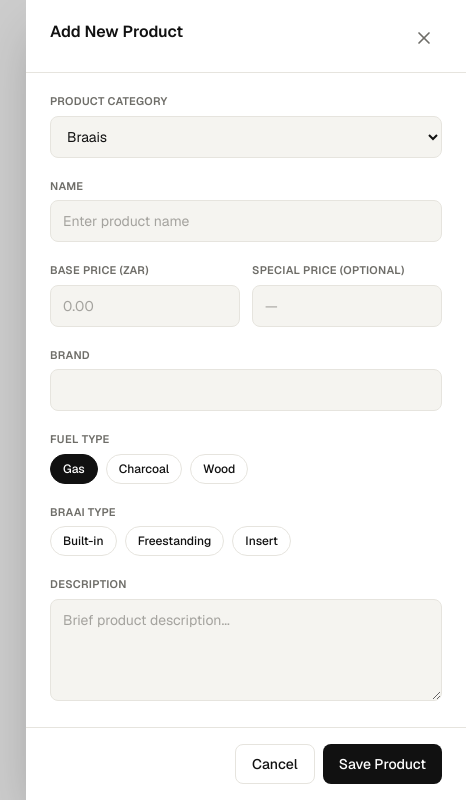
Test: create mode › saving a braai › toasts, refreshes the list and closes
Type "  Mega Braai " into the field labelled "Name" at (246, 221), box left=50, top=200, right=442, bottom=242
Type "9999.5" into the number field labelled "Base Price (ZAR)" at (145, 306), box left=50, top=284, right=240, bottom=326
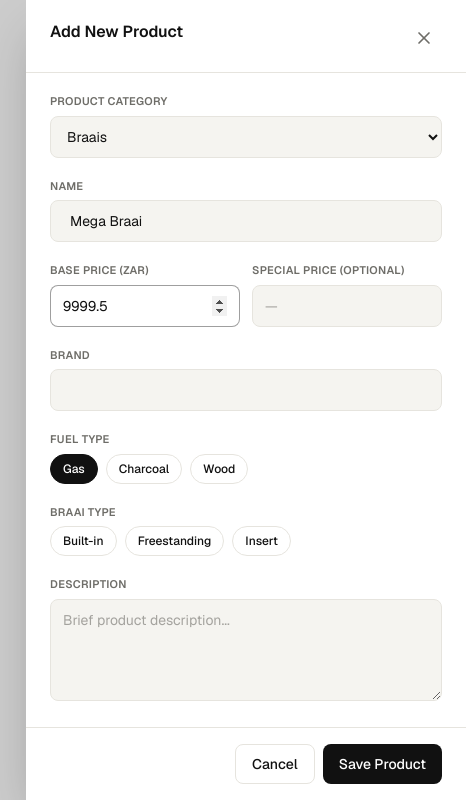
Type "8500" into the number field labelled "Special Price (optional)" at (347, 306), box left=252, top=284, right=442, bottom=326
Type " Weber " into the field labelled "Brand" at (246, 390), box left=50, top=369, right=442, bottom=411
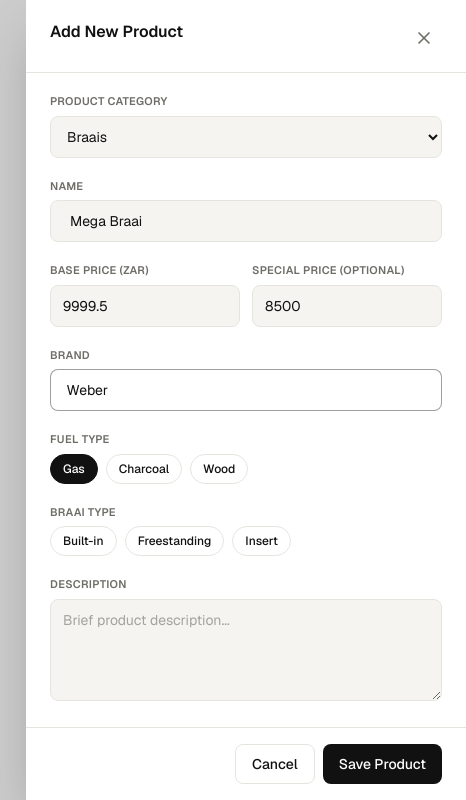
Type "Great braai" into the text box labelled "Description" at (246, 650), box left=50, top=598, right=442, bottom=700
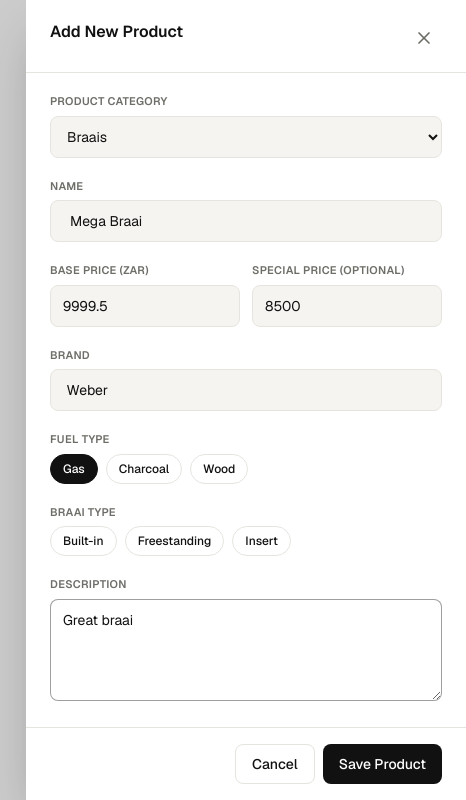
Click the button "Charcoal" at (144, 468), box left=106, top=454, right=182, bottom=484
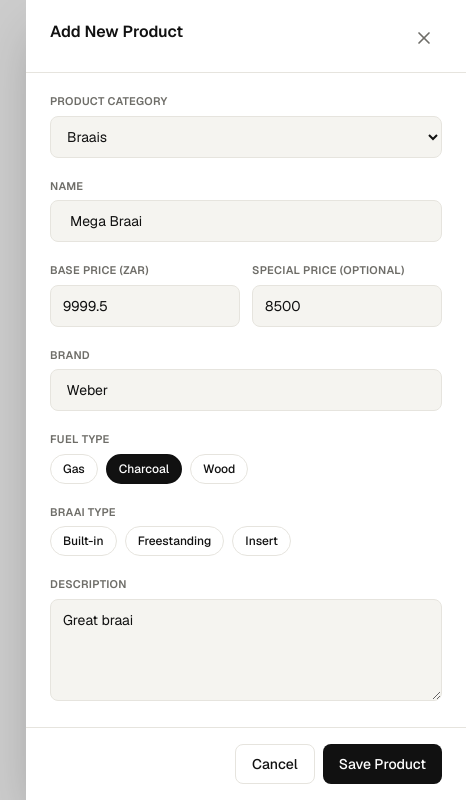
Click the button "Freestanding" at (174, 541), box left=125, top=526, right=224, bottom=556
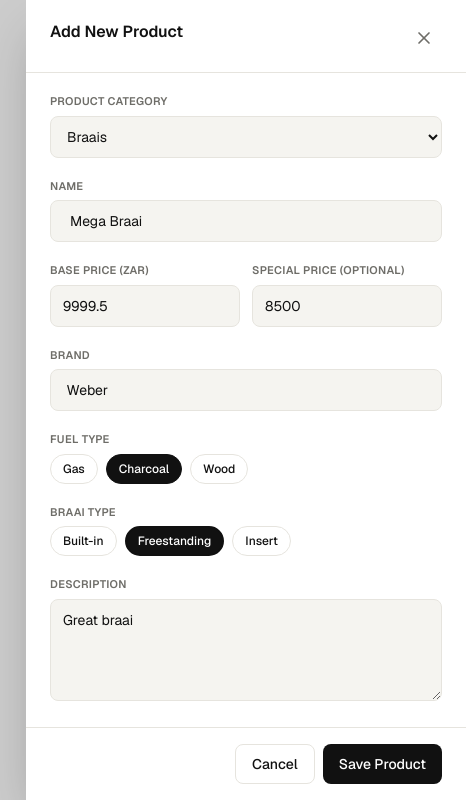
Click the button "Save Product" at (382, 764), box left=323, top=744, right=442, bottom=784
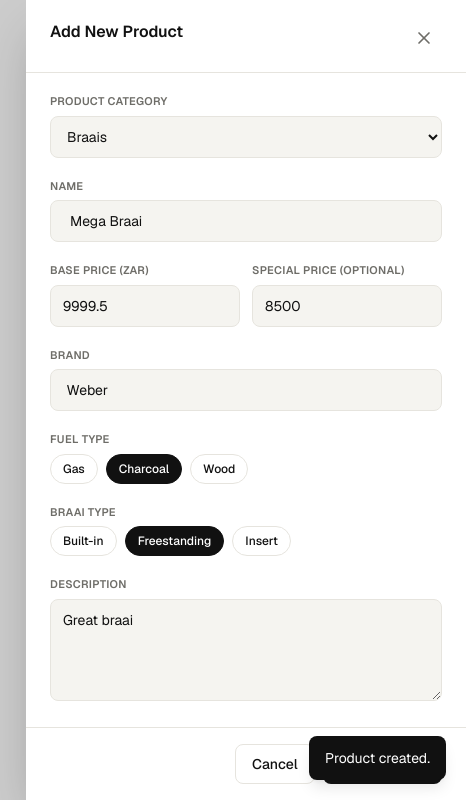
Result: the text "Product created." is shown at left=309, top=736, right=446, bottom=780
